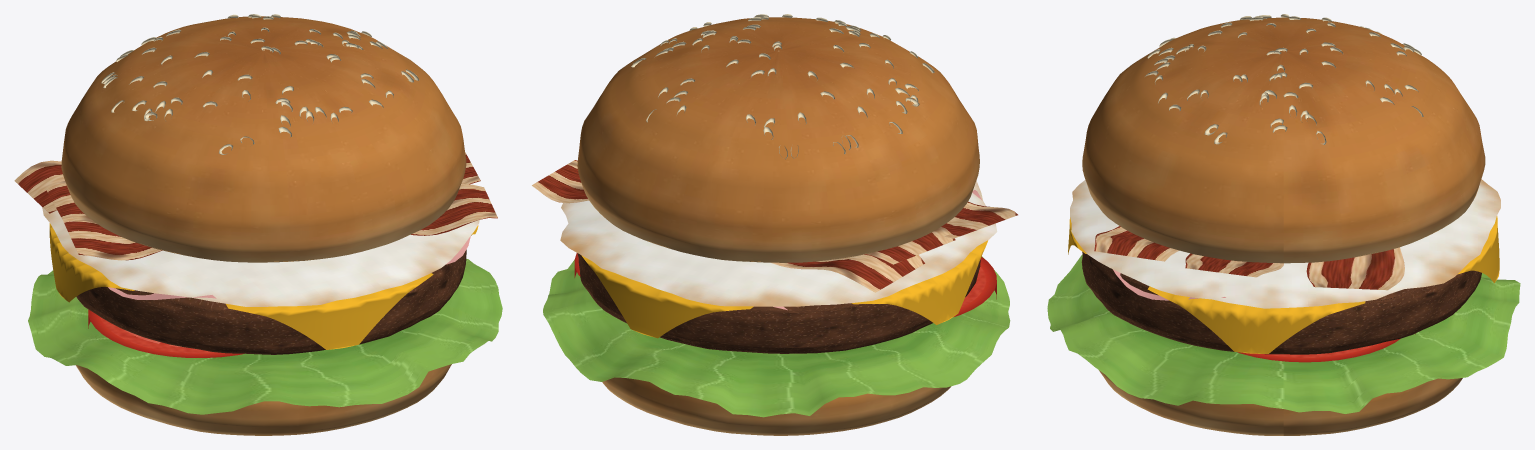
Rendered from burger-x-tudo.glb.
The picture shows the model from 3 angles, left to right: view 1: azimuth 30°, elevation 25°; view 2: azimuth 150°, elevation 25°; view 3: azimuth 270°, elevation 25°; orthographic projection.
Visible parts, largest first — view 1: burger-x-tudo; view 2: burger-x-tudo; view 3: burger-x-tudo.
Boxes of the visible parts, x1=… form: burger-x-tudo: x1=14, y1=14, x2=502, y2=435; burger-x-tudo: x1=532, y1=14, x2=1017, y2=435; burger-x-tudo: x1=1047, y1=14, x2=1520, y2=435.
Bounding box in the file's own units: 0.1354 × 0.0984 × 0.1327.
12 materials, 7 textured.
